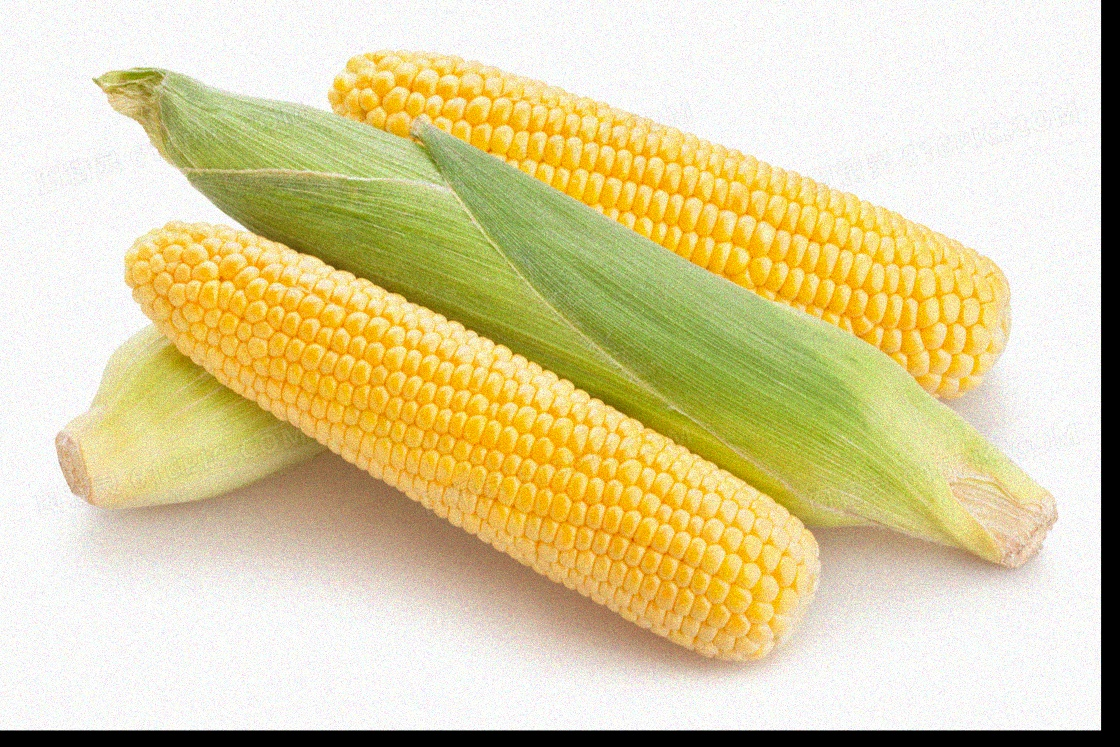corn: (121, 219, 821, 661), (328, 48, 1012, 402)
corn_plant: (99, 78, 1054, 561)
